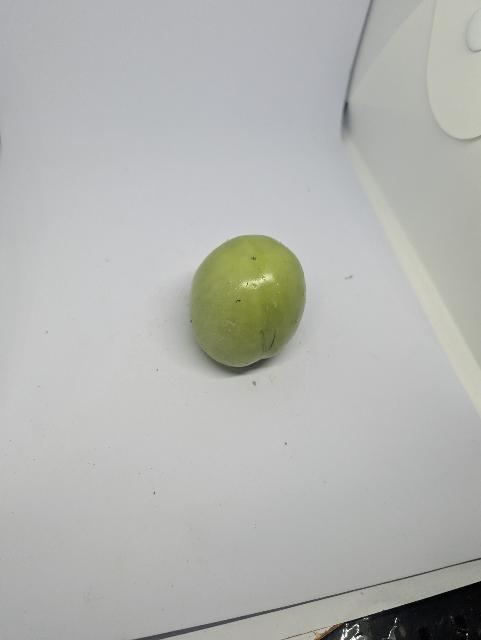green: (160, 215, 330, 406)
